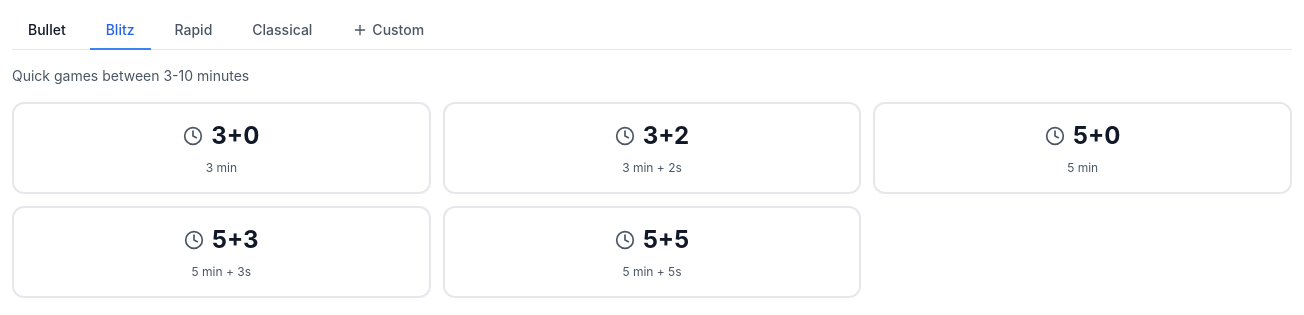
Test case: TimeControlSelector › Bullet Time Controls (Requirement 5.1) › should display all bullet time controls
Click the button with test id "category-tab-bullet": [47, 31] box [12,12,82,50]
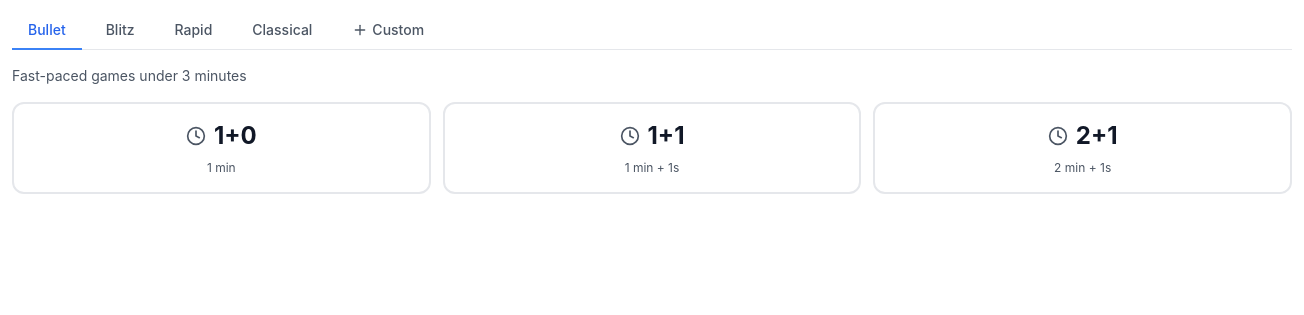
Result: the button with test id "time-control-bullet-1+0" is shown at [12,102,431,194]
Result: the button with test id "time-control-bullet-1+1" is shown at [443,102,861,194]
Result: the button with test id "time-control-bullet-2+1" is shown at [873,102,1292,194]
